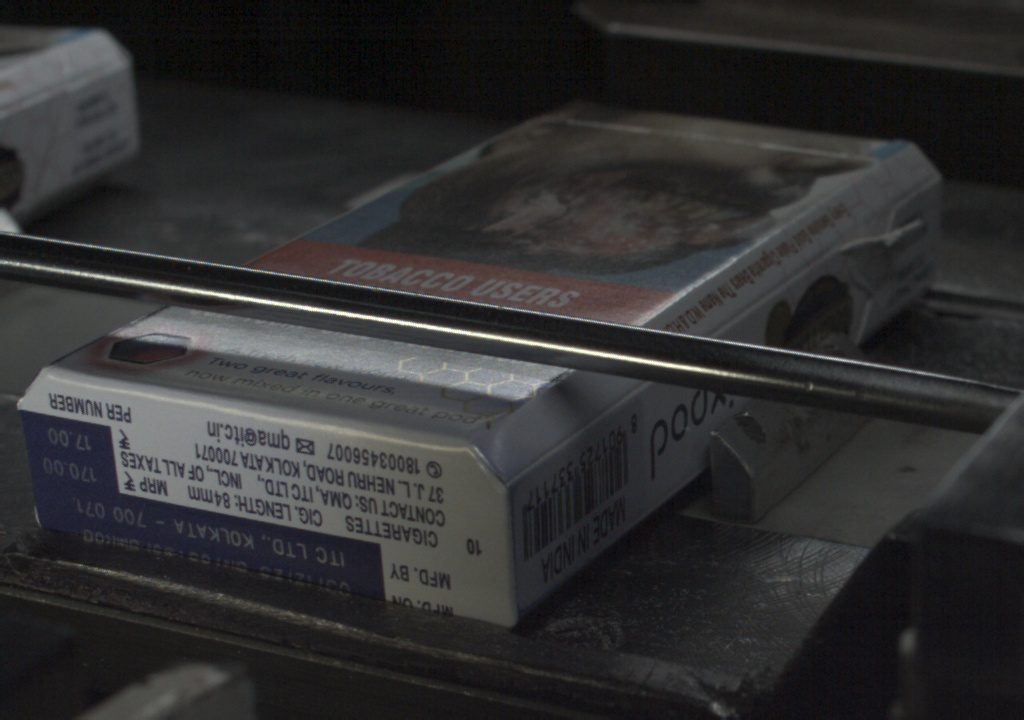g_bottom: (16, 369, 515, 625)
g_label: (33, 491, 383, 601)
g_lmiter: (718, 264, 807, 331), (509, 426, 585, 482), (585, 383, 647, 426)
g_miter: (897, 168, 943, 204)
ng_lmiter: (839, 206, 930, 292)
price: (25, 419, 116, 490)
